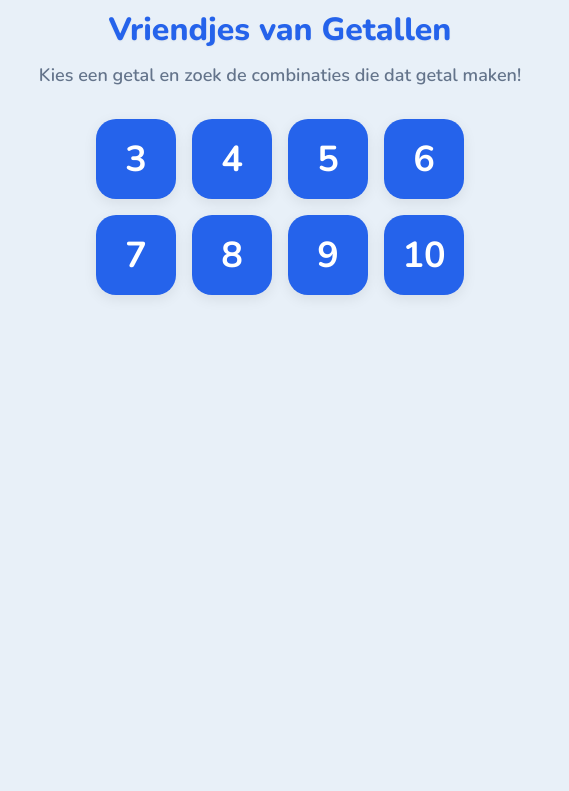
Test: App › na kiezen getal verschijnt memorybord met open kaarten
Click the button named "getal 4 kiezen": (232, 159) [192,119,272,199]
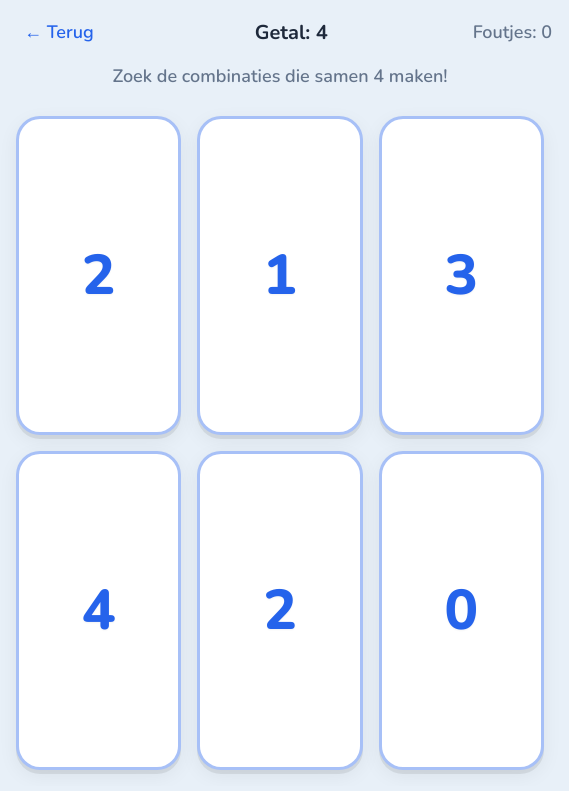
Now the text "Zoek de combinaties die samen 4 maken!" is shown, box [112,64,448,88]
Now the text "Getal: 4" is shown, box [255,18,328,46]
